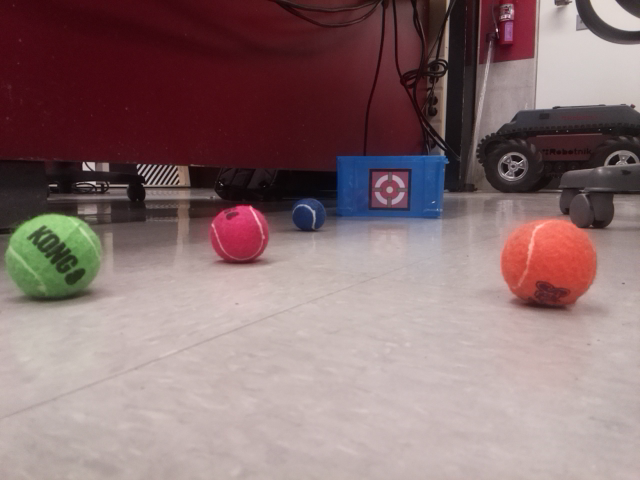blue-ball: (290, 196, 326, 232)
drop-bin: (367, 167, 411, 211)
green-ball: (4, 211, 102, 303)
orange-ball: (499, 216, 599, 310)
red-ball: (208, 203, 271, 265)
